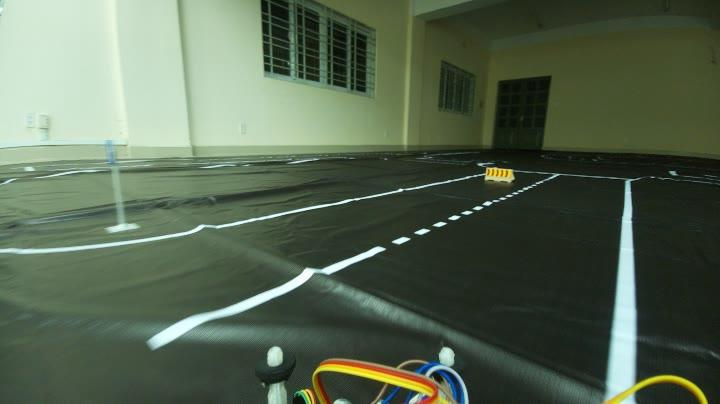onewayroad: (98, 138, 120, 164)
roadblock: (482, 164, 516, 185)
